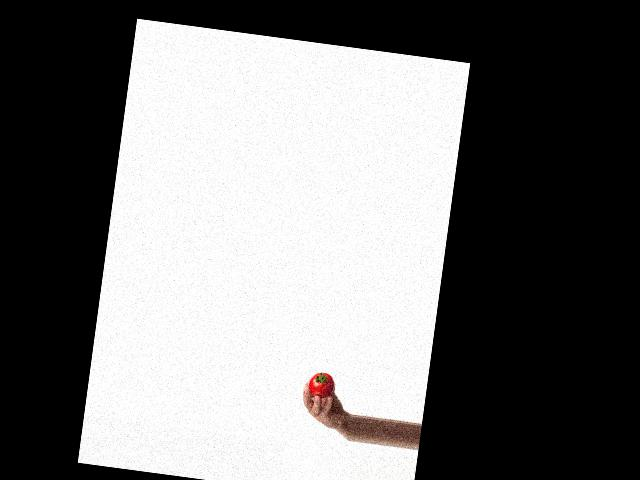tomato: (307, 370, 336, 399)
